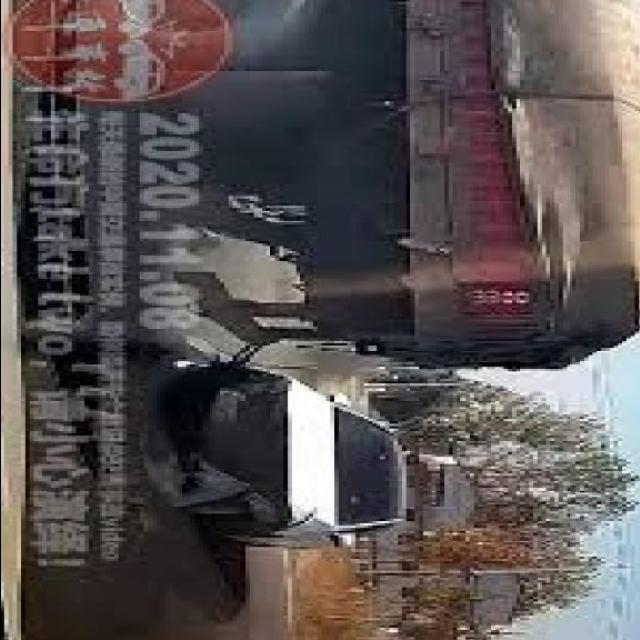accident: (83, 325, 389, 545)
